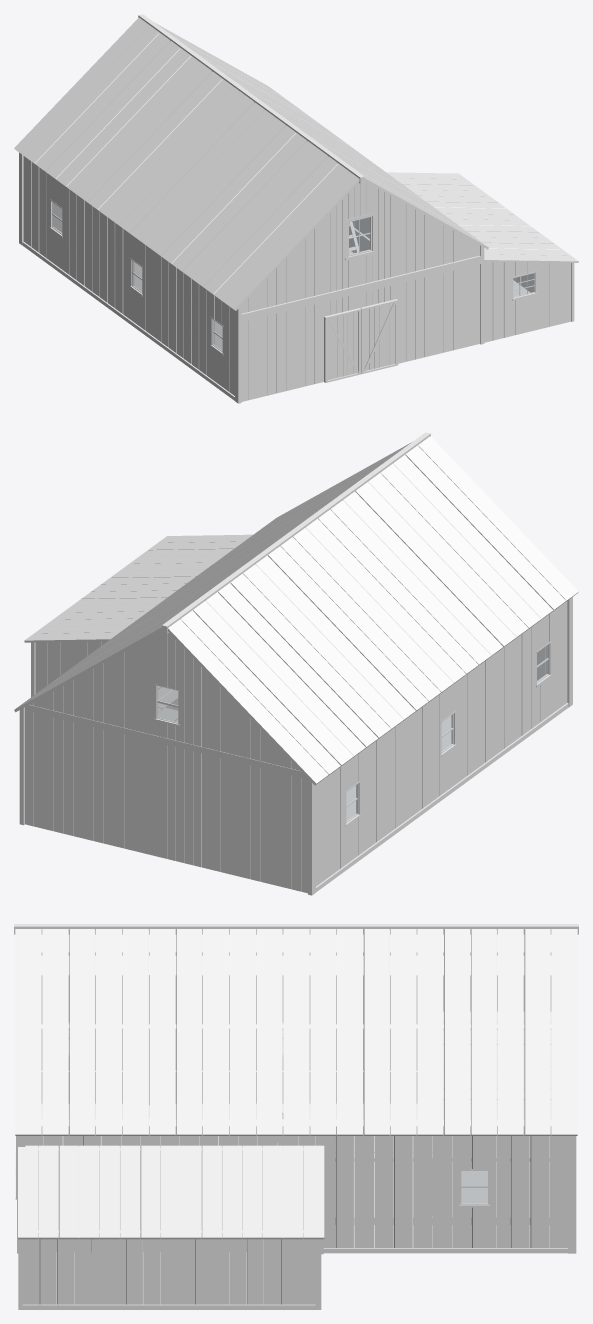
Rendered from Bld_Shed_01.glb.
The picture shows the model from 3 angles, top to bottom: view 1: azimuth 30°, elevation 25°; view 2: azimuth 150°, elevation 25°; view 3: azimuth 270°, elevation 25°; orthographic projection. The views are drawn at different scales.
Parts seen in each view (by area): view 1: Bld_Shed_01, Bld_Shed_Door_Left_01, Bld_Shed_Door_Right_01, (_ignore)_Bld_Shed_Windows_01; view 2: Bld_Shed_01, (_ignore)_Bld_Shed_Windows_01; view 3: Bld_Shed_01, (_ignore)_Bld_Shed_Windows_01.
Part boxes in pixels (bbox=[...]): Bld_Shed_01: bbox=[14, 14, 578, 403]; Bld_Shed_Door_Left_01: bbox=[324, 308, 361, 382]; Bld_Shed_Door_Right_01: bbox=[361, 299, 398, 373]; (_ignore)_Bld_Shed_Windows_01: bbox=[53, 203, 534, 350]; Bld_Shed_01: bbox=[14, 432, 578, 895]; (_ignore)_Bld_Shed_Windows_01: bbox=[157, 645, 547, 821]; Bld_Shed_01: bbox=[14, 924, 578, 1309]; (_ignore)_Bld_Shed_Windows_01: bbox=[461, 1171, 487, 1202].
Size of the model in its own units: 12.08 by 6.63 by 13.44.
Materials: 2 (1 with a texture image).
